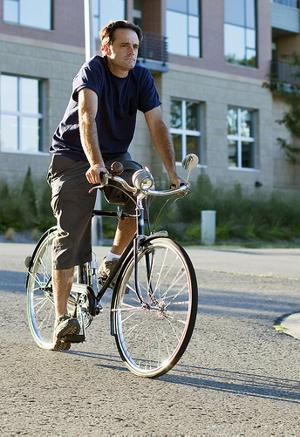person: (47, 17, 187, 356)
